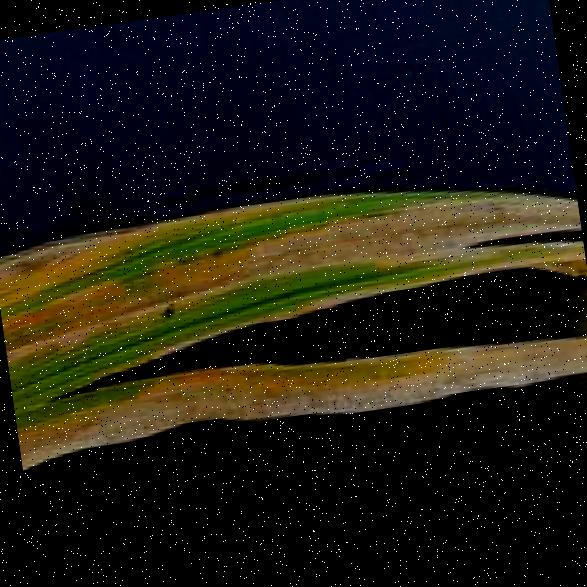Bacteria_Leaf_Blight: (0, 156, 586, 484)
